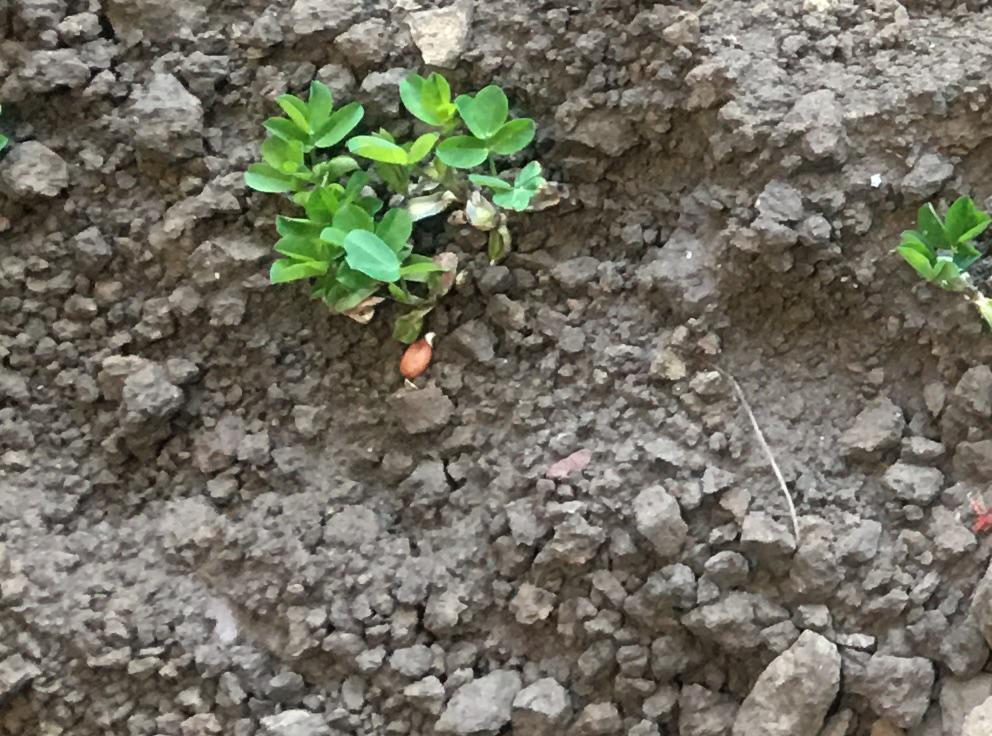block: (730, 627, 838, 736), (123, 69, 203, 163), (1, 134, 71, 210)
